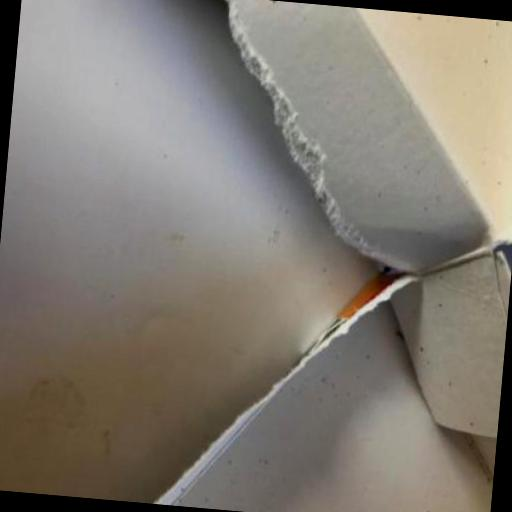cardboard: (155, 213, 512, 512), (201, 0, 512, 285)
